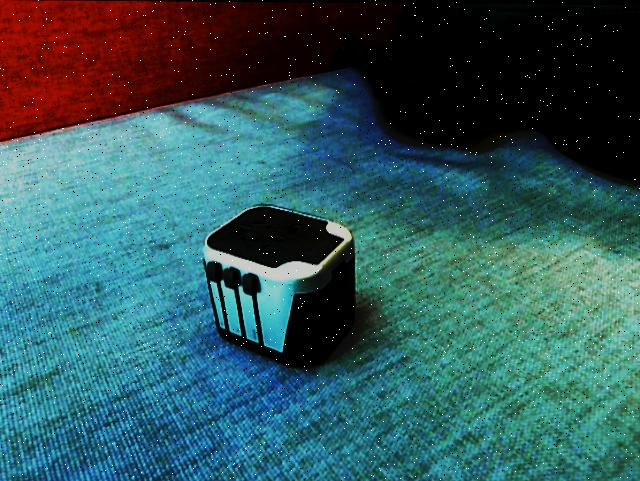adapter: (200, 203, 356, 367)
